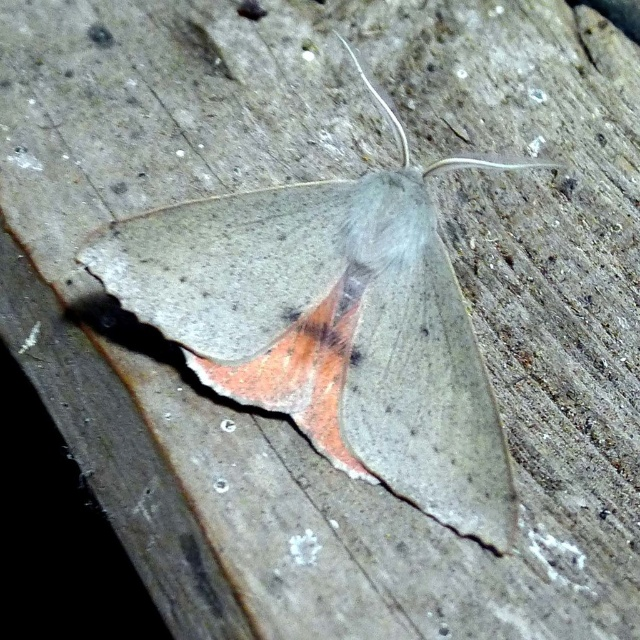Moths and butterflies: (73, 28, 566, 561)
